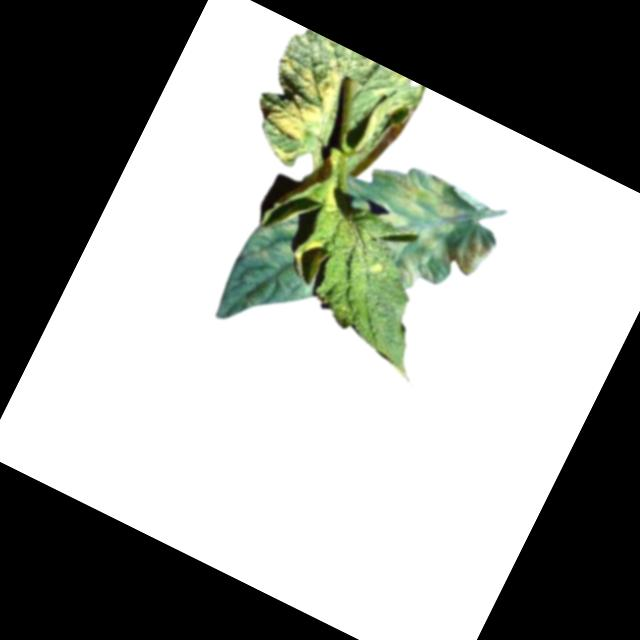Leaf_Mold: (332, 151, 512, 316), (240, 44, 354, 176), (239, 199, 310, 276), (287, 232, 334, 286)
